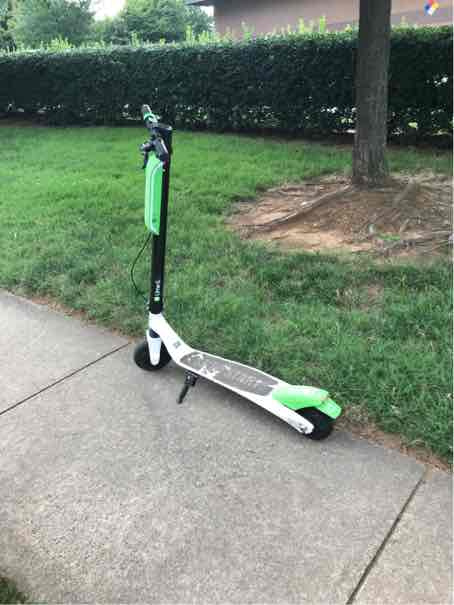scooter: (121, 93, 344, 453)
